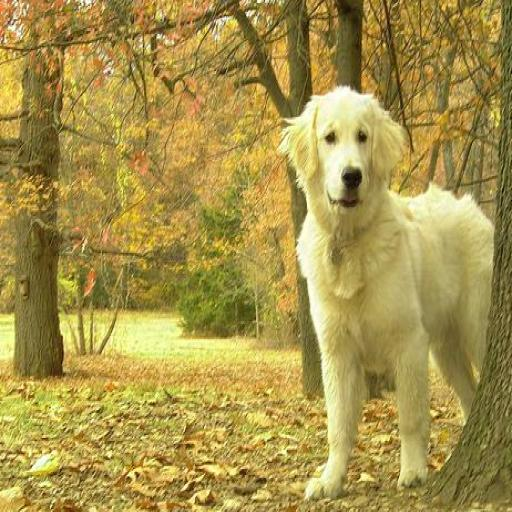dog_face: (283, 85, 399, 208)
